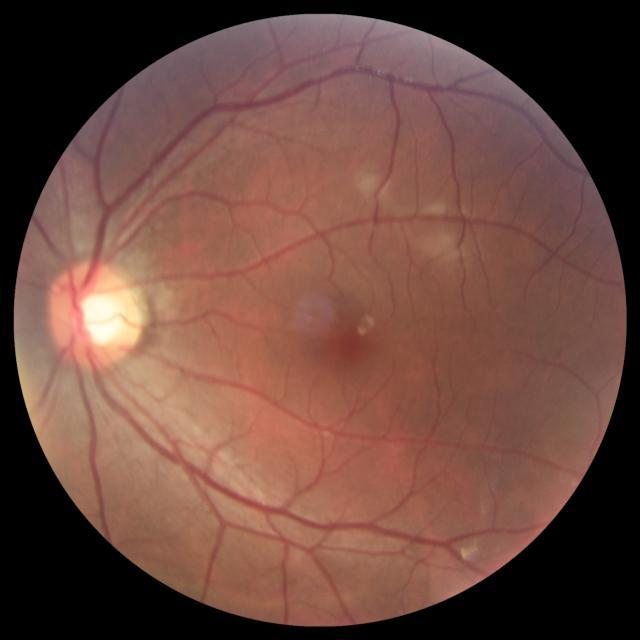OC: (72, 288, 124, 346)
OD: (43, 260, 145, 372)
